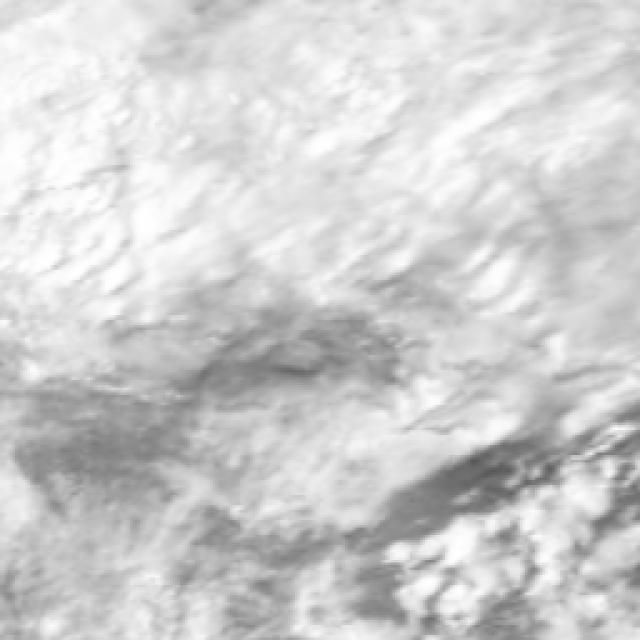CB: (64, 37, 570, 255)
